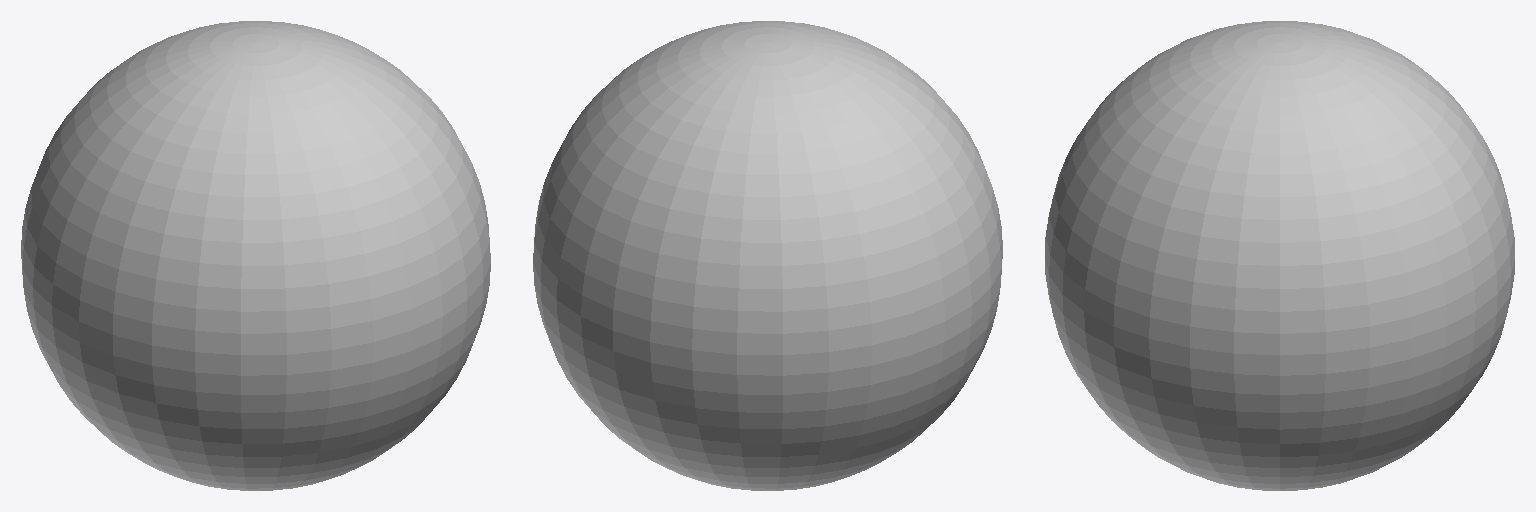
File: betterPlanetSide.obj
3 views of the same model, side by side, from view 1: azimuth 30°, elevation 25°; view 2: azimuth 150°, elevation 25°; view 3: azimuth 270°, elevation 25° (orthographic).
Size of the model in its own units: 10 by 10 by 10.